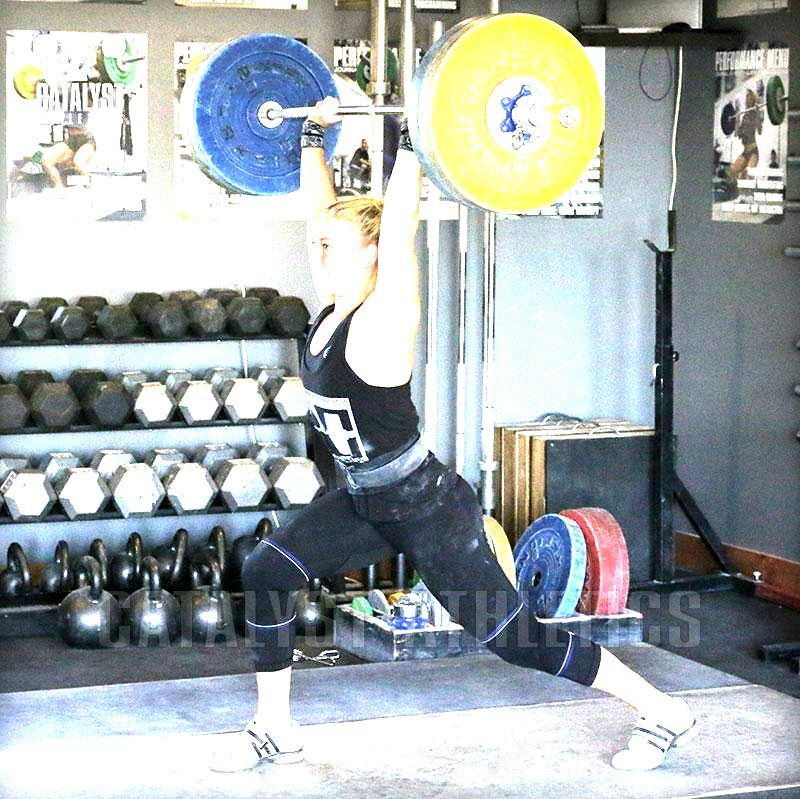Barbell: (551, 103, 584, 130)
